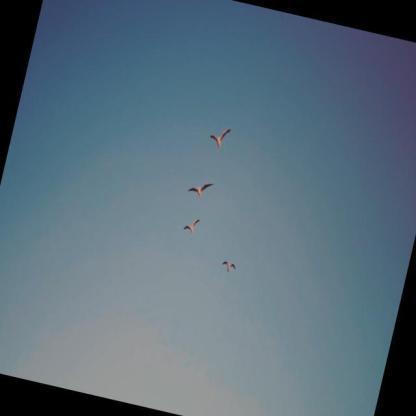bird: (185, 175, 216, 203), (207, 123, 233, 153), (182, 214, 202, 236), (220, 258, 237, 276)
